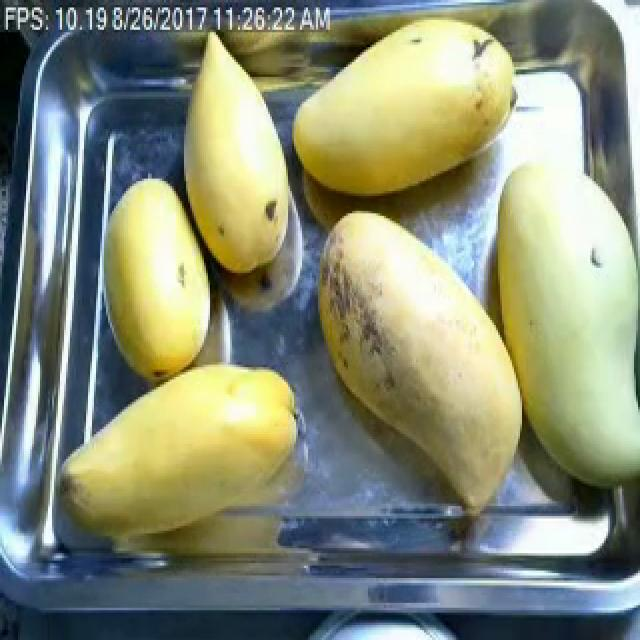fruit: (304, 193, 548, 531), (452, 139, 638, 506), (282, 2, 538, 216), (50, 352, 312, 553), (174, 32, 298, 288), (94, 171, 224, 387)
